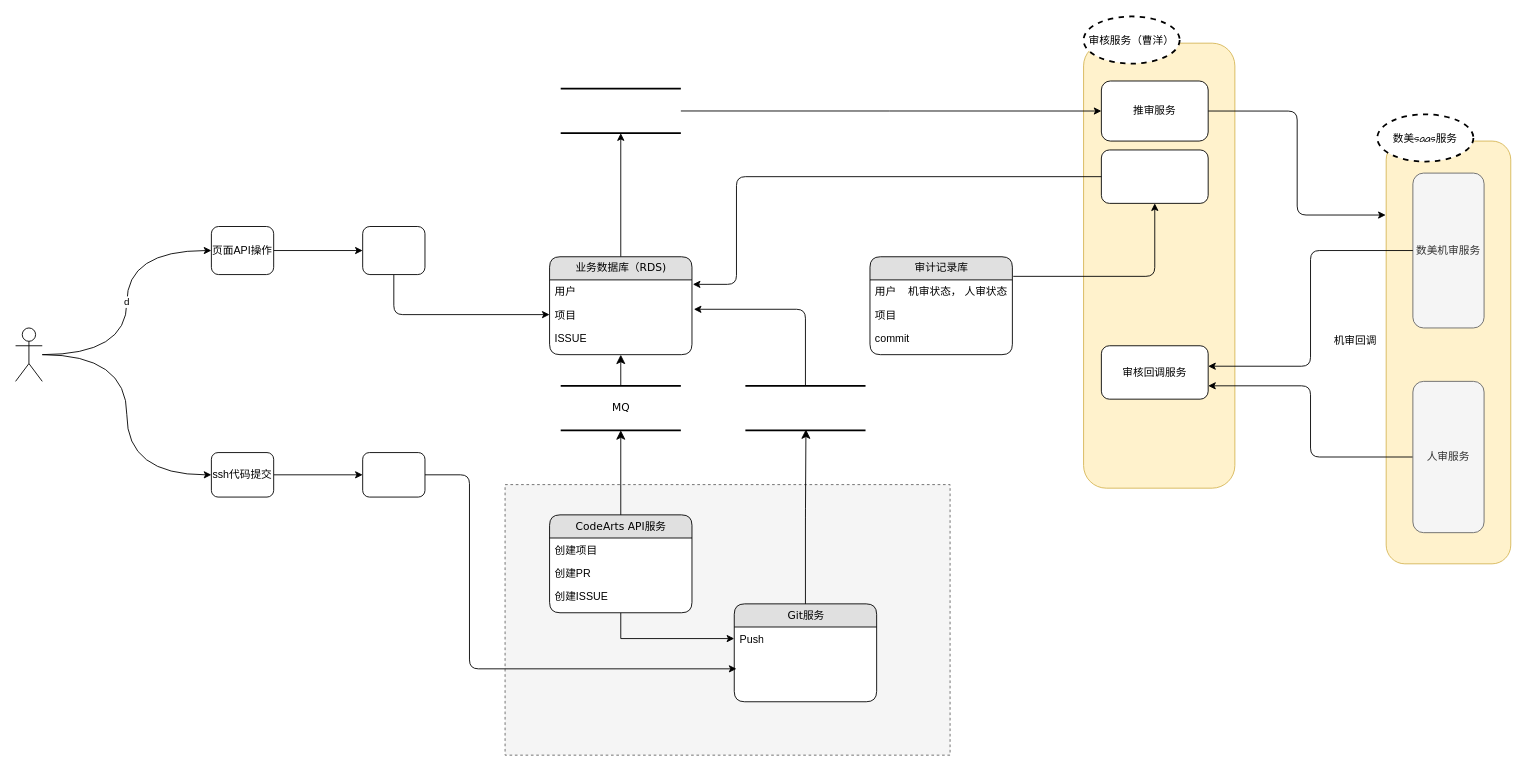
The diagram is 1526 pixels wide and 771 high, and some of its shapes have lost their labels. The shapes that lost their labels are listed below. From the top down, each one's centre as x and y in pixels, then its label:
At (620,110): "Kafka（binlog）".
At (1154,176): "审核策略任务".
At (393,250): "GitCode服务".
At (28,354): "Actor".
At (805,407): "Events（MQ)".
At (393,474): "Proxy".
